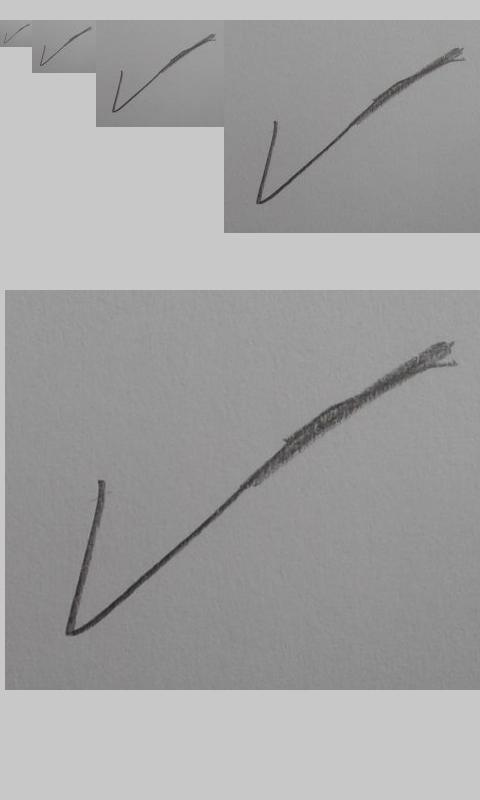check_box: (62, 341, 457, 639), (254, 48, 463, 205), (111, 34, 216, 113), (39, 27, 91, 66), (3, 24, 30, 44)
